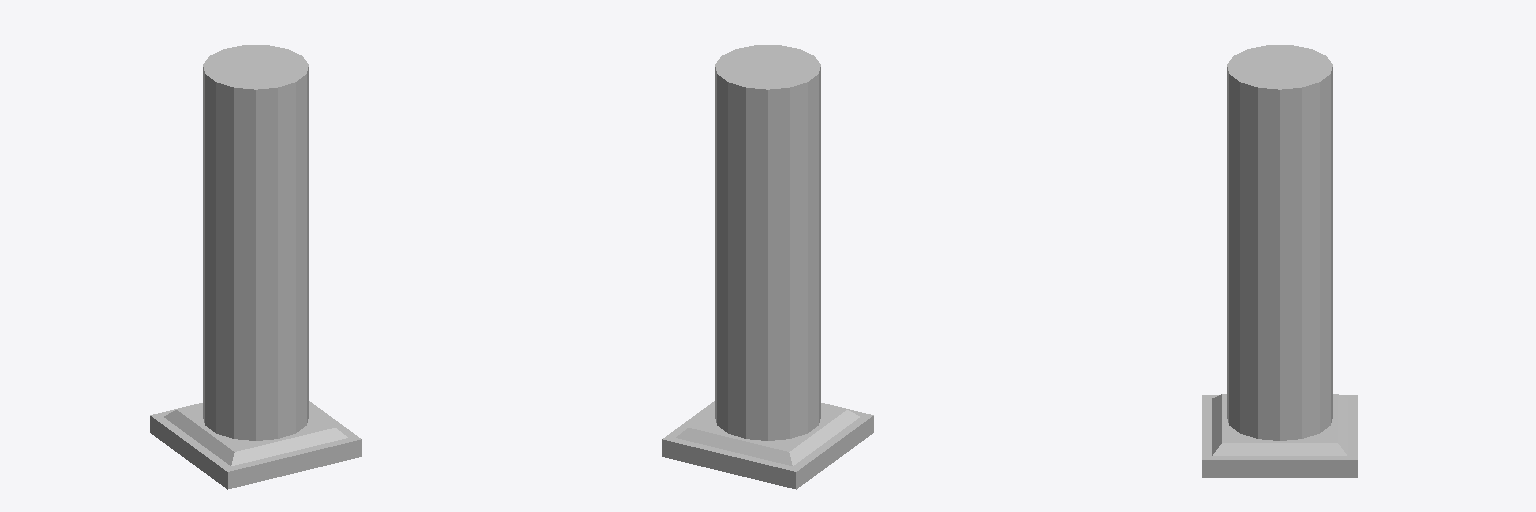
Rendered from Pillar.obj.
The picture shows the model from 3 angles: view 1: azimuth 30°, elevation 25°; view 2: azimuth 150°, elevation 25°; view 3: azimuth 270°, elevation 25°; orthographic projection.
Visible parts, largest first — view 1: Cylinder001; view 2: Cylinder001; view 3: Cylinder001.
Boxes of the visible parts, box(x1,y1,x2,y2) form: Cylinder001: box(150, 45, 361, 489); Cylinder001: box(662, 45, 873, 489); Cylinder001: box(1202, 45, 1357, 477).
Bounding box in the file's own units: 8 × 21.5 × 8.